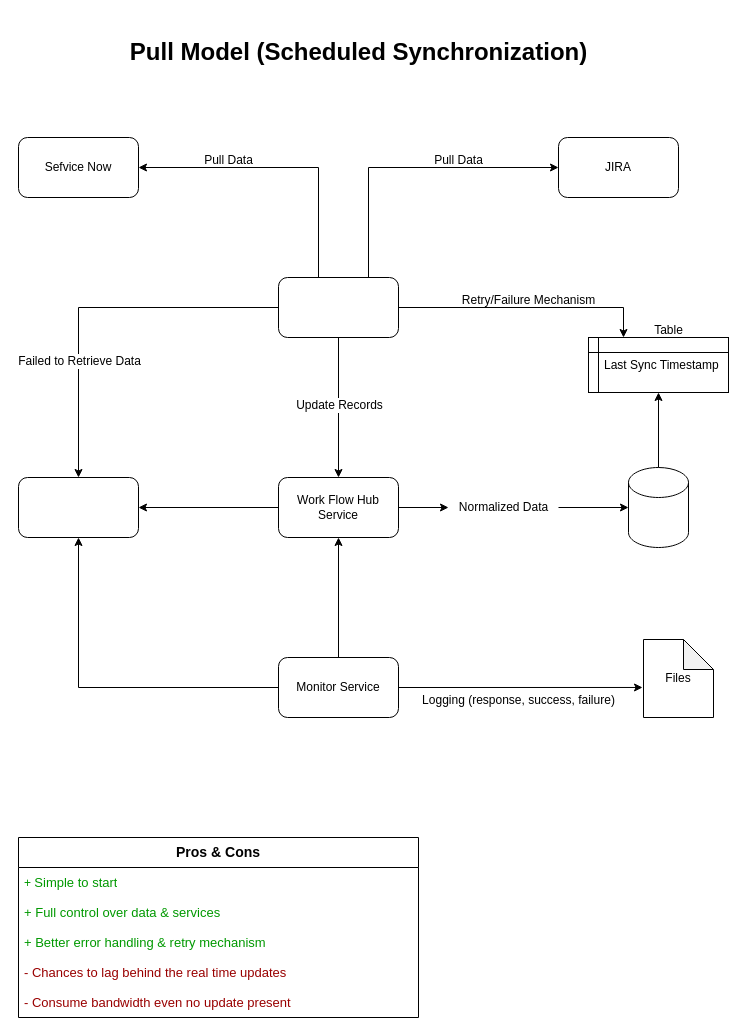
The diagram is 746 pixels wide and 1035 high, and some of its shapes have lost their labels. Each missing label, with the centre of its shape:
"Alert Service" goes at pixel 78 507.
"DB" goes at pixel 658 507.
"Polling Service" goes at pixel 338 307.
